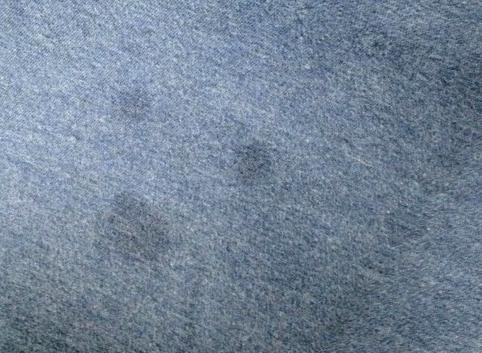stain: (103, 191, 173, 262), (235, 136, 286, 192), (112, 80, 159, 126)
